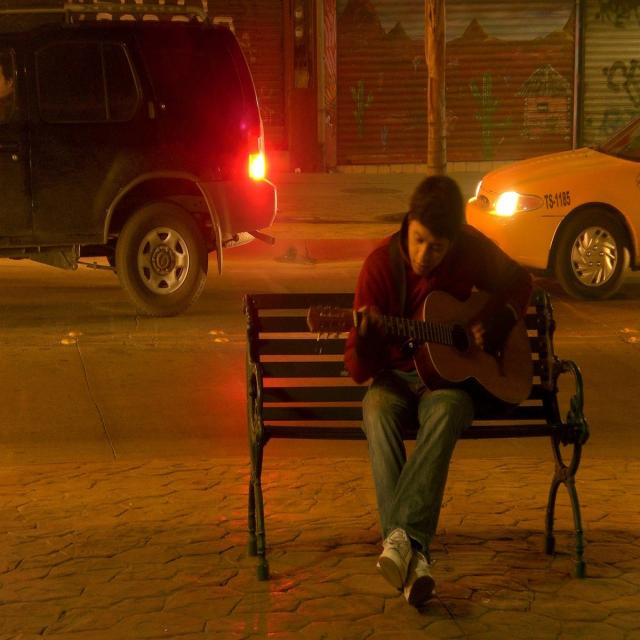guitar: (305, 284, 533, 415)
